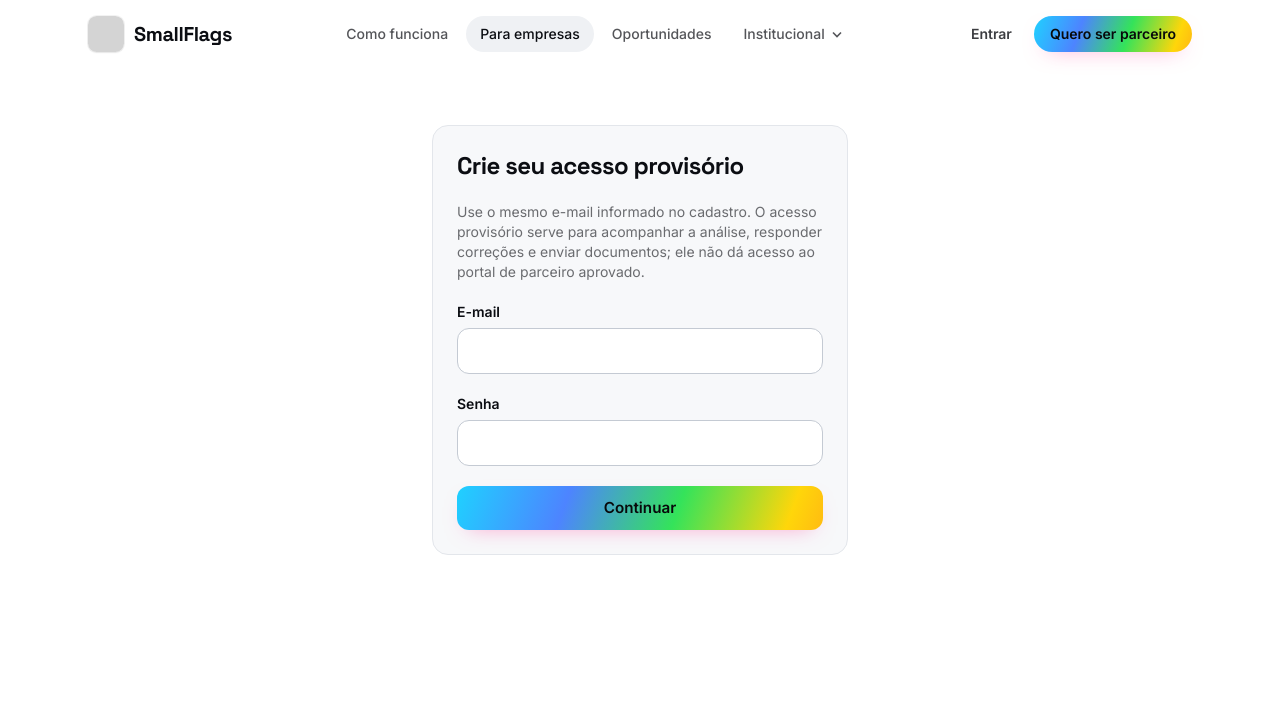
Test: B2 — claim por e-mail e identidade › email divergente mostra erro seguro e nao conclui
The width and height of the screenshot is (1280, 720).
Type "outro@gmail.com" into the field labelled "E-mail".
click(640, 351); type("outro@gmail.com")  # box [457, 328, 823, 374]
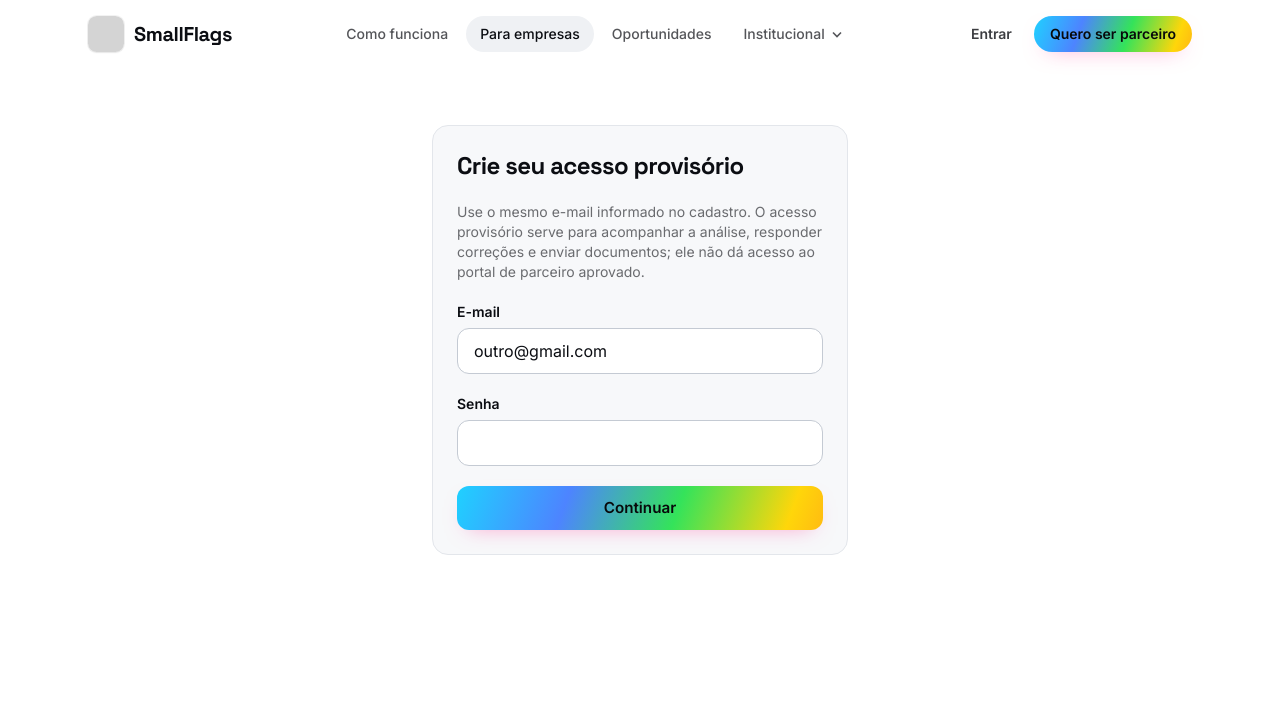
Type "senha-forte-1" into the password field labelled "Senha".
click(640, 443); type("senha-forte-1")  # box [457, 420, 823, 466]
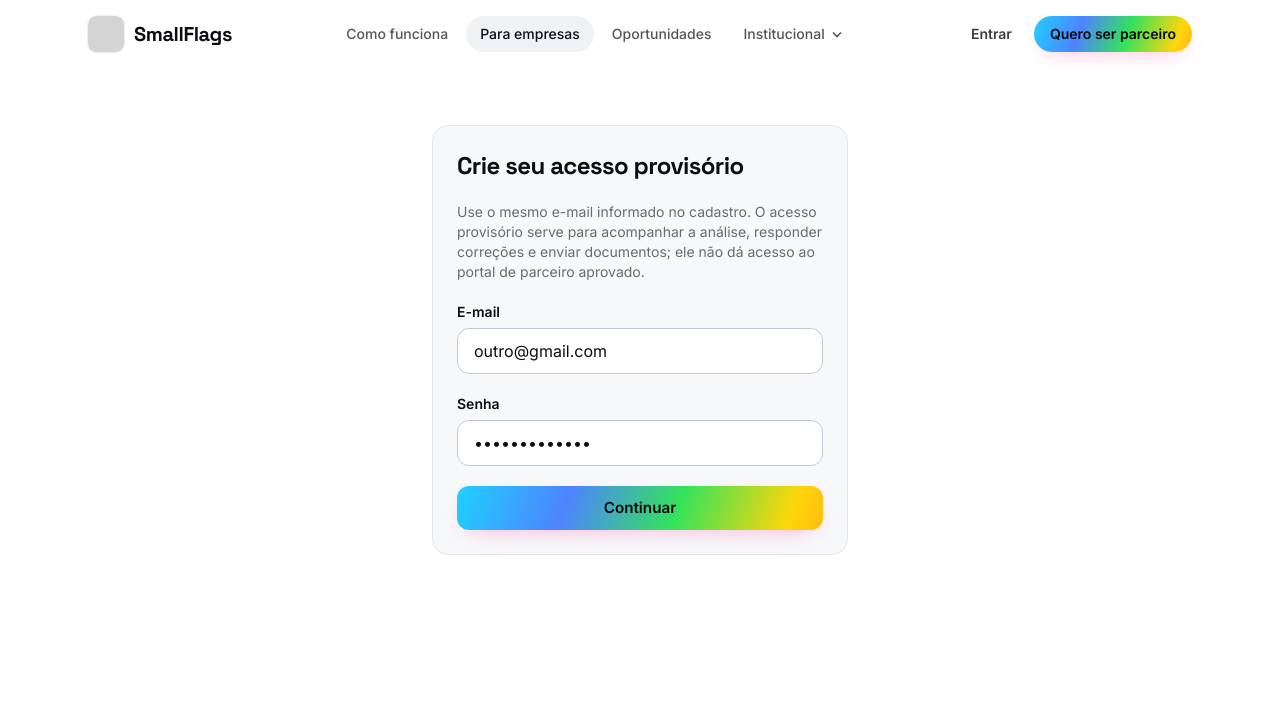
Click the button "Continuar".
click(640, 508)  # box [457, 486, 823, 530]
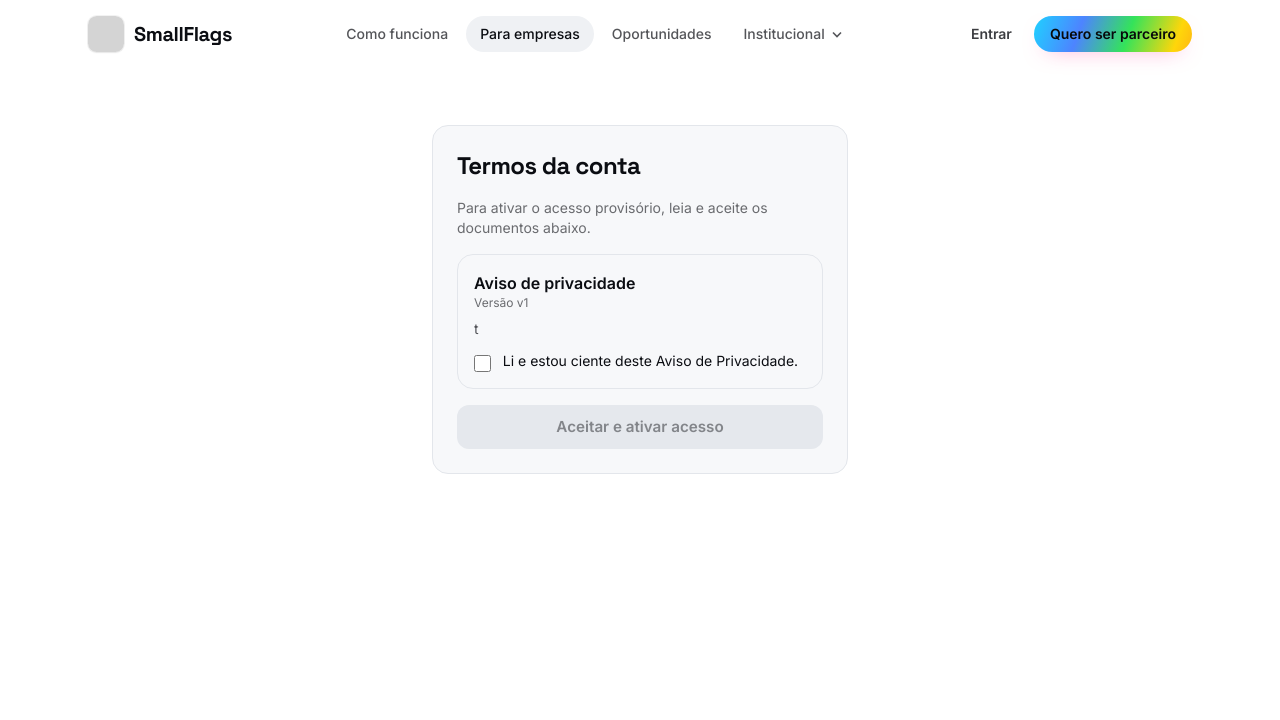
Now the checkbox named "ciente: aviso de privacidade" is shown
Click the checkbox named "ciente: aviso de privacidade".
click(482, 363)  # box [474, 355, 491, 372]
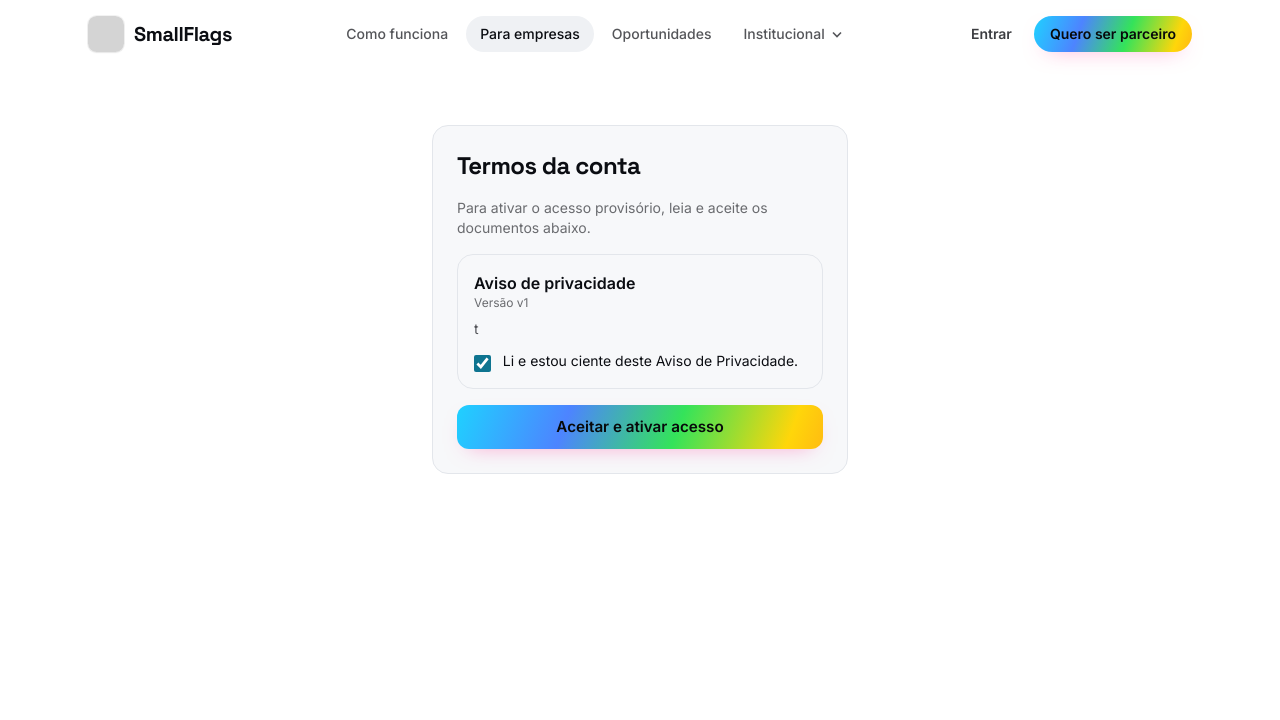
Click the button "Aceitar e ativar acesso".
click(640, 427)  # box [457, 405, 823, 449]
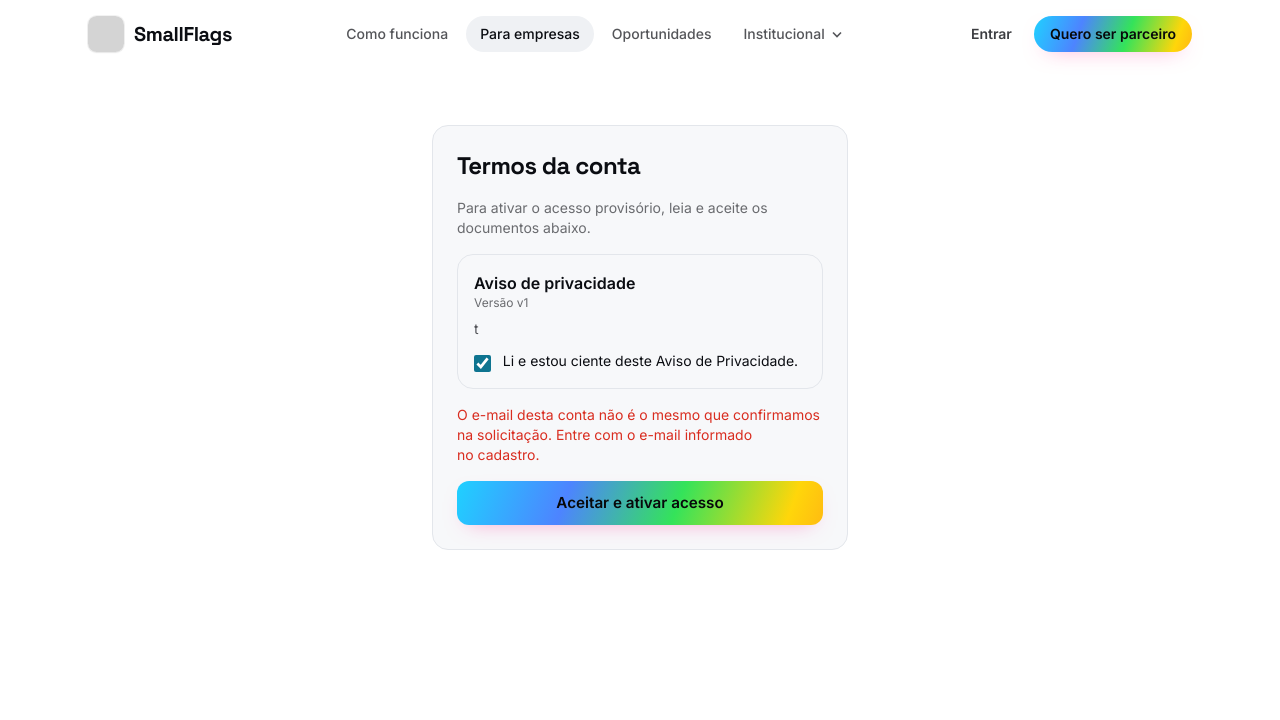
Now the text "não é o mesmo que confirmamos" is shown, box [457, 406, 820, 463]
